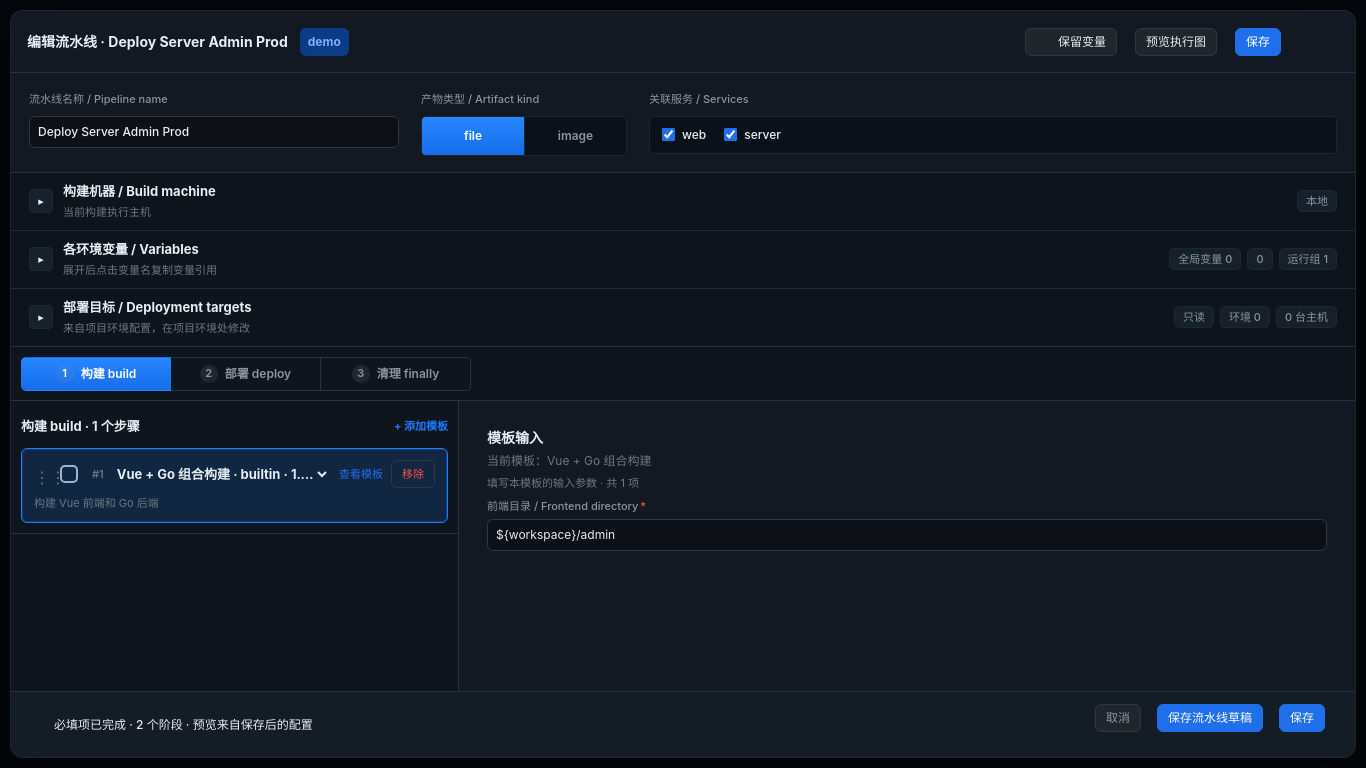
Scenario: ProjectPipelineEditor › 预览执行图换行后的孤立节点保持卡片宽度
Click the button with test id "pipeline-preview-open". click: click(1176, 42)
box: x1=1135 y1=28 x2=1217 y2=56
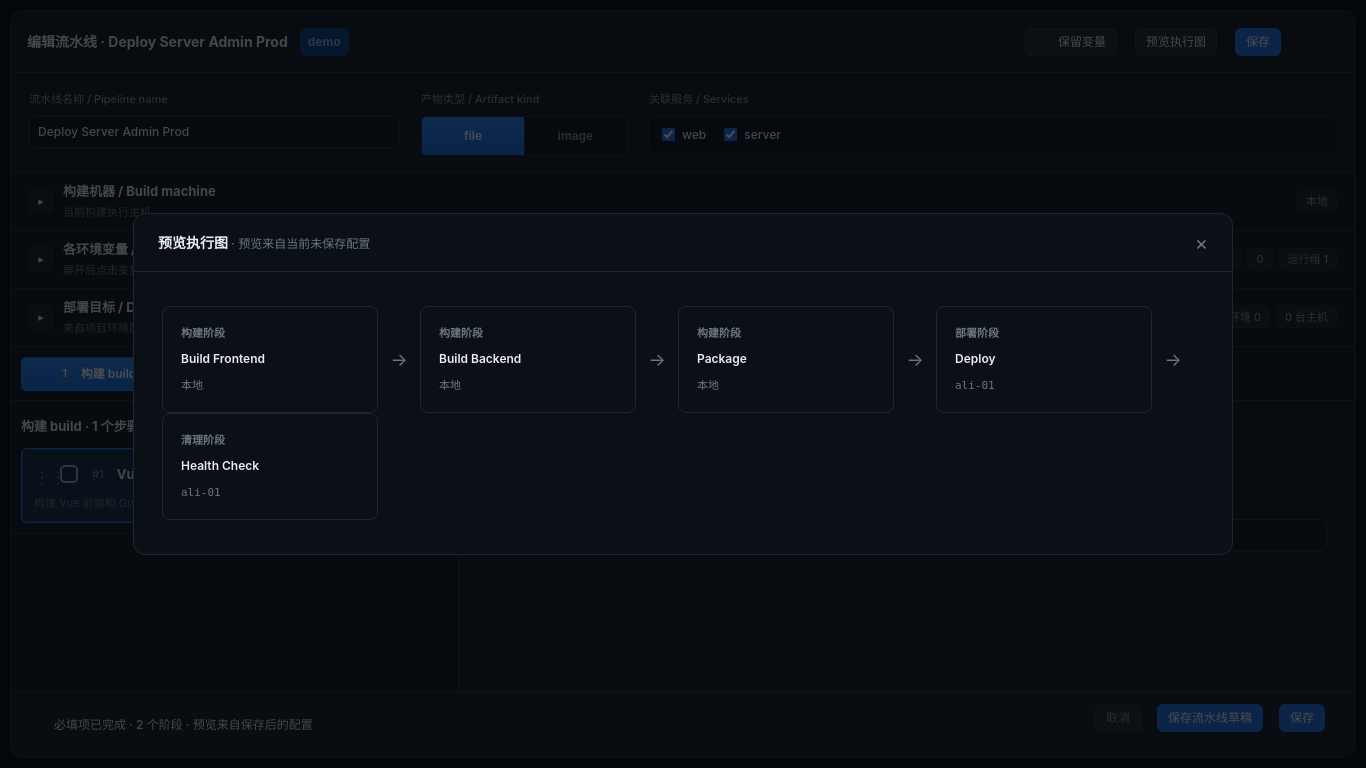
Check: the number of elements with test id "pipeline-preview-node" is 5, box x1=162 y1=306 x2=378 y2=413; x1=420 y1=306 x2=636 y2=413; x1=678 y1=306 x2=894 y2=413; x1=936 y1=306 x2=1152 y2=413; x1=162 y1=413 x2=378 y2=520
